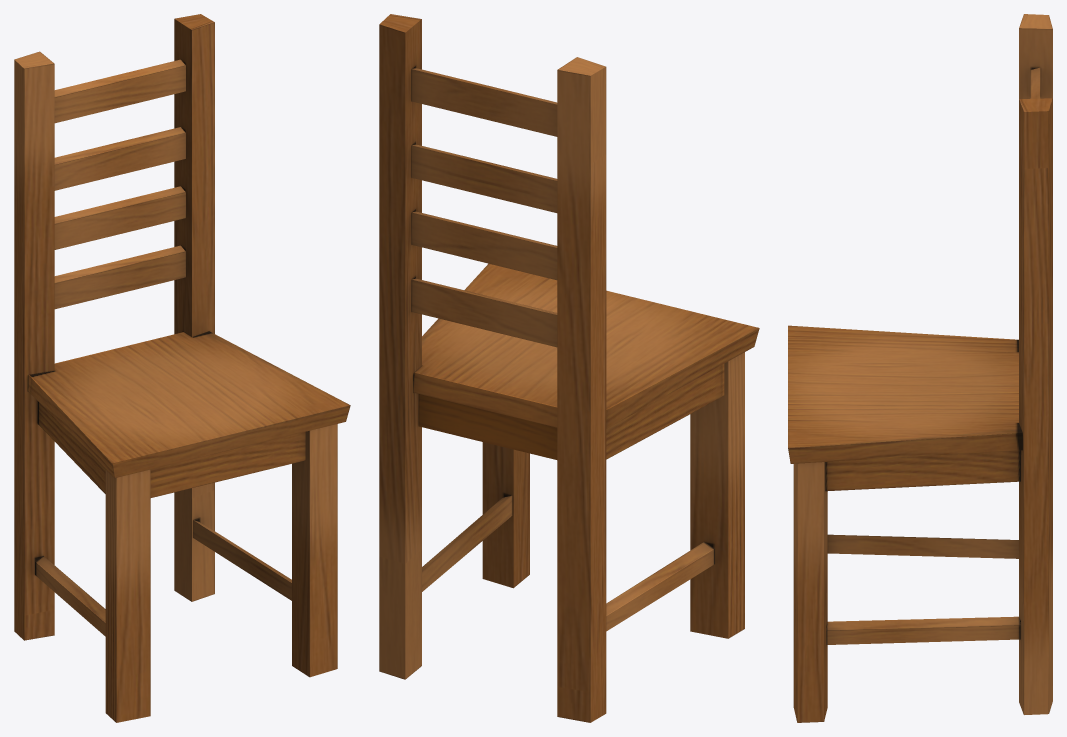
The model's file is furniture-chair.glb.
3 views of the same model, side by side, from view 1: azimuth 30°, elevation 25°; view 2: azimuth 150°, elevation 25°; view 3: azimuth 270°, elevation 25° (orthographic). The views are drawn at different scales.
Parts seen in each view (by area): view 1: Chair_mesh; view 2: Chair_mesh; view 3: Chair_mesh.
Part boxes in pixels (x1,y1,x2,y2): Chair_mesh: [14, 14, 350, 722]; Chair_mesh: [379, 14, 759, 722]; Chair_mesh: [788, 14, 1052, 722].
Size of the model in its own units: 0.5576 by 1.28 by 0.5087.
1 material, 1 textured.
